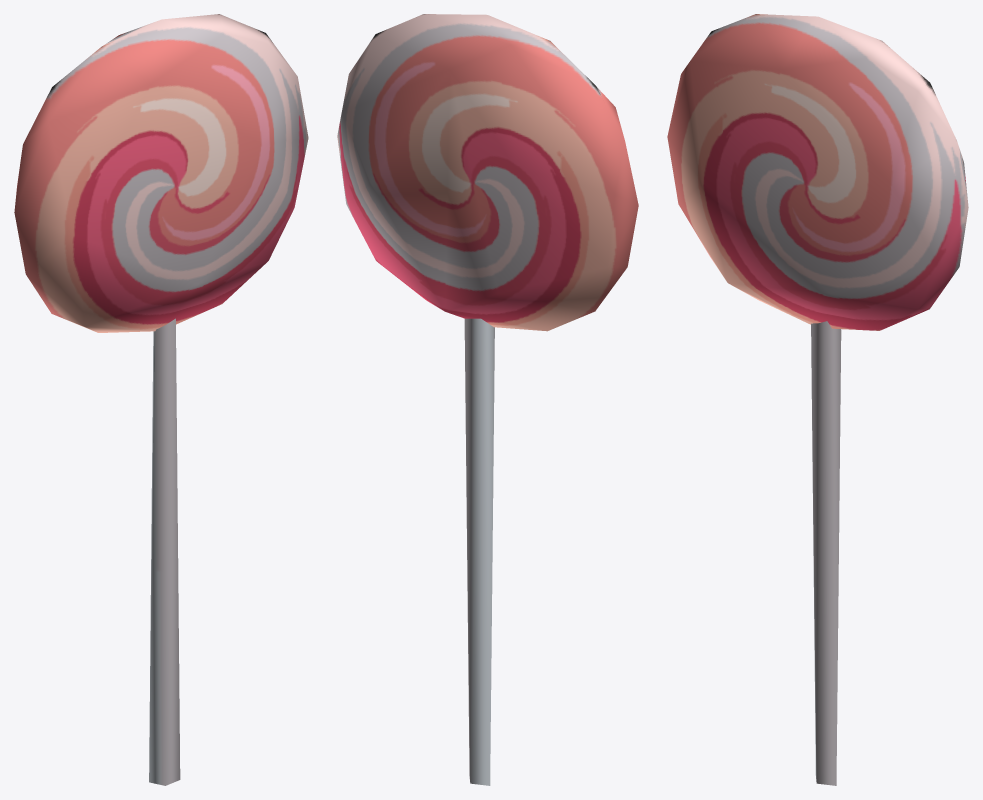
Rendered from Lollipop.fbx.
3 views of the same model, side by side, from view 1: azimuth 30°, elevation 25°; view 2: azimuth 150°, elevation 25°; view 3: azimuth 330°, elevation 25° (orthographic).
Parts seen in each view (by area): view 1: Lollipop; view 2: Lollipop; view 3: Lollipop.
Boxes of the visible parts, x1=… form: Lollipop: x1=14, y1=14, x2=308, y2=785; Lollipop: x1=337, y1=14, x2=638, y2=785; Lollipop: x1=667, y1=14, x2=968, y2=785.
Size of the model in its own units: 151 by 371 by 27.04.
